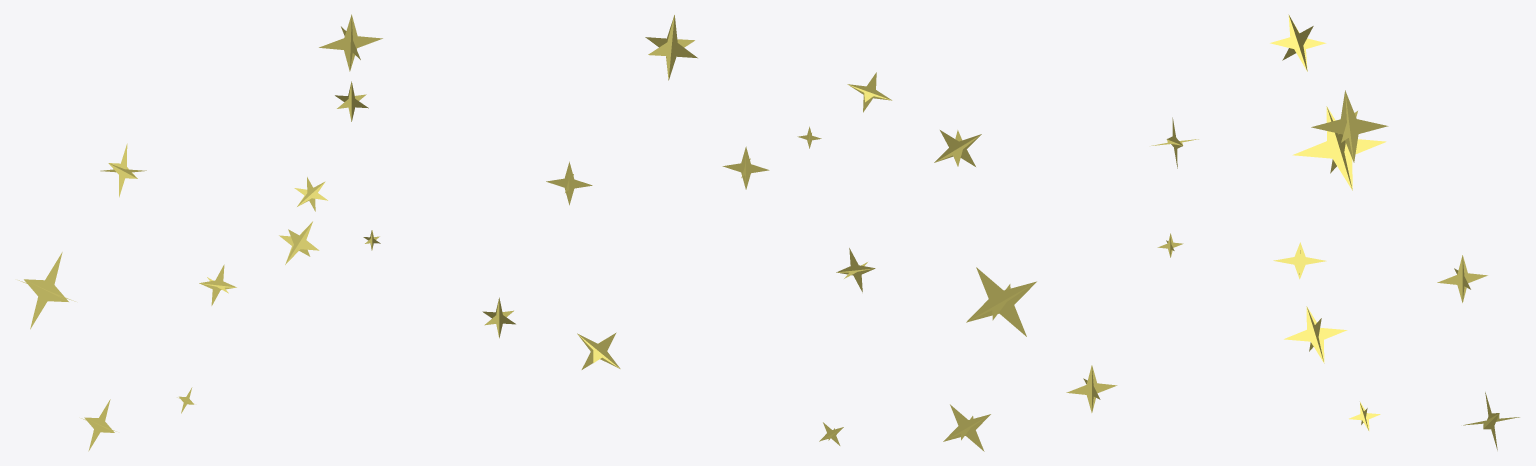
File: Stars.glb
3 views of the same model, side by side, from view 1: azimuth 30°, elevation 25°; view 2: azimuth 150°, elevation 25°; view 3: azimuth 270°, elevation 25° (orthographic). The views are drawn at different scales.
Parts seen in each view (by area): view 1: Star11, Star10, Star4; view 2: Star11, Star10, Star7, Star6, Star4, Star8, Star2; view 3: Star11, Star10, Star6, Star7, Star8, Star1, Star3.
Part boxes in pixels (bbox=[...]): Star11: bbox=[18, 252, 75, 329]; Star10: bbox=[319, 14, 382, 71]; Star4: bbox=[279, 221, 319, 264]; Star11: bbox=[966, 267, 1036, 336]; Star10: bbox=[645, 15, 697, 80]; Star7: bbox=[934, 130, 981, 166]; Star6: bbox=[943, 404, 990, 451]; Star4: bbox=[577, 332, 620, 369]; Star8: bbox=[722, 146, 769, 189]; Star2: bbox=[847, 72, 892, 112]; Star11: bbox=[1292, 106, 1386, 190]; Star10: bbox=[1311, 90, 1388, 162]; Star6: bbox=[1284, 306, 1347, 363]; Star7: bbox=[1270, 14, 1326, 71]; Star8: bbox=[1066, 365, 1117, 412]; Star1: bbox=[1437, 255, 1487, 302]; Star3: bbox=[1273, 242, 1326, 279].
Bounding box in the file's own units: 7.93 × 6.83 × 6.57.
